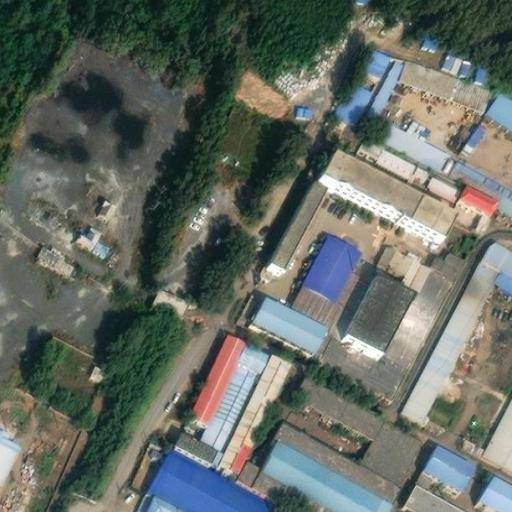building: (403, 235, 512, 416), (273, 370, 427, 497), (175, 336, 273, 458), (316, 145, 451, 233), (260, 432, 393, 512), (149, 443, 275, 512), (221, 345, 293, 464), (293, 227, 371, 325), (351, 132, 461, 201), (313, 328, 409, 399), (239, 455, 354, 512), (343, 264, 416, 346), (188, 326, 249, 416), (409, 241, 475, 319), (273, 171, 329, 262), (401, 53, 491, 105), (372, 113, 457, 168), (252, 287, 329, 346), (357, 53, 406, 129), (449, 154, 512, 213), (403, 475, 481, 512), (374, 239, 428, 285), (419, 441, 470, 486), (437, 42, 489, 81), (124, 440, 162, 493), (483, 393, 512, 461), (335, 76, 375, 122), (30, 238, 74, 276), (455, 176, 499, 212), (476, 472, 512, 512), (0, 428, 23, 487), (356, 40, 392, 75), (151, 281, 189, 312), (459, 119, 490, 155), (85, 383, 117, 416), (73, 220, 105, 252), (145, 488, 183, 512), (488, 87, 512, 122), (92, 194, 116, 220), (414, 30, 439, 52), (84, 358, 107, 381)
